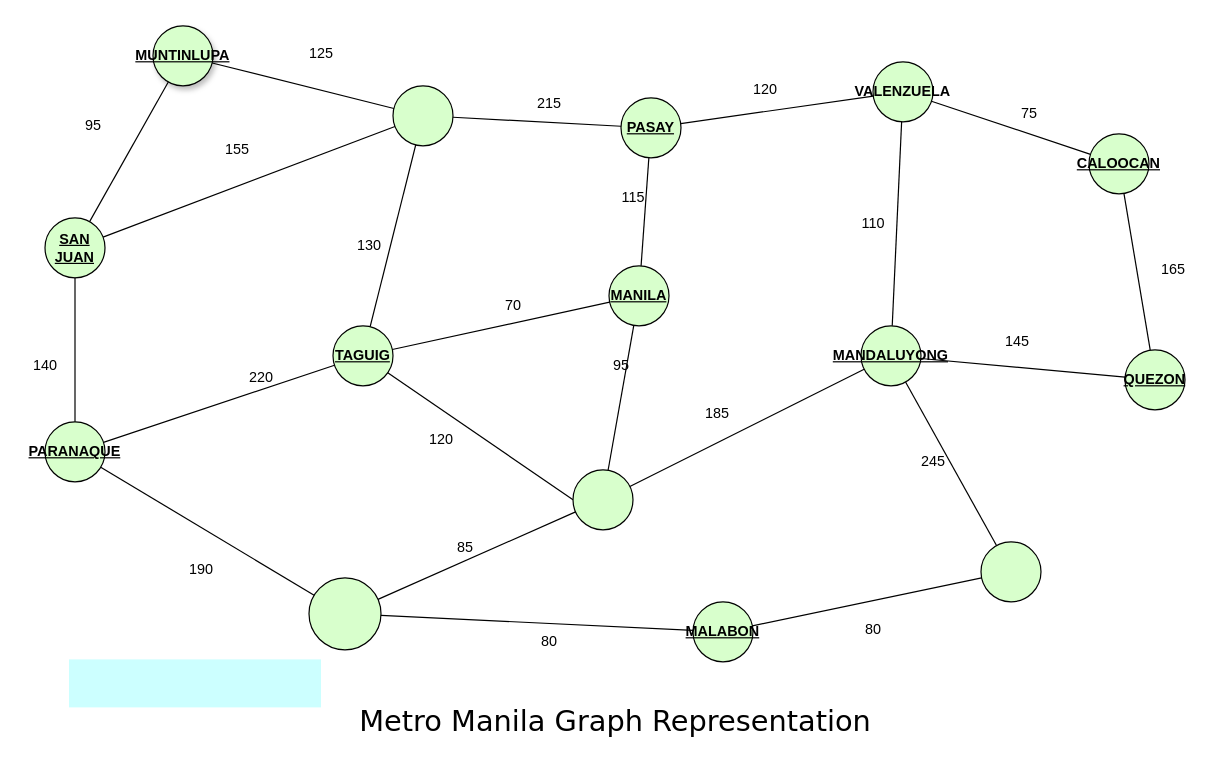
This 1217x767 diagram has some shape labels left out. The centre of each missing label's shape, as x and y in pixels:
"LAS PINAS" goes at (x=344, y=613).
"MAKATI" goes at (x=422, y=115).
"MARIKINA" goes at (x=1010, y=571).
"Nodes: City where firetruck resides Edges: unit distance cost" goes at (x=194, y=683).
"PASIG" goes at (x=602, y=499).
